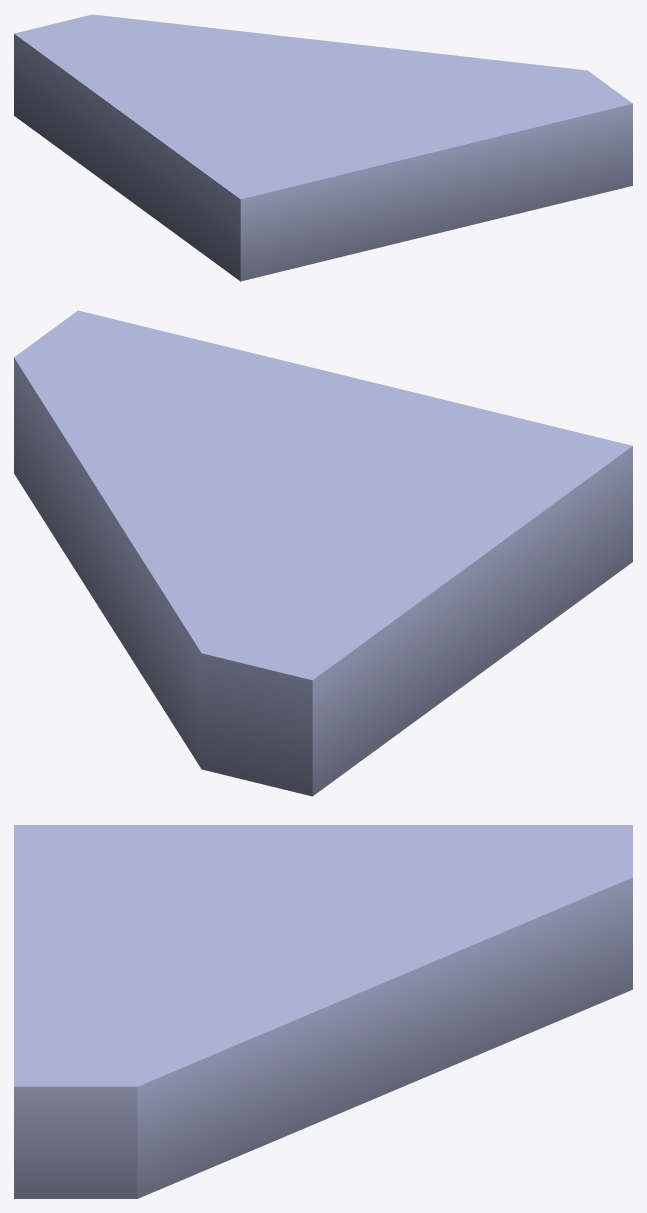
File: floor-thick-corner-diagonal.fbx
3 renders of one model, top to bottom at view 1: azimuth 30°, elevation 25°; view 2: azimuth 150°, elevation 25°; view 3: azimuth 270°, elevation 25°, orthographic. The views are drawn at different scales.
Visible parts, largest first — view 1: floor-thick-corner-diagonal; view 2: floor-thick-corner-diagonal; view 3: floor-thick-corner-diagonal.
Boxes of the visible parts, x1=… form: floor-thick-corner-diagonal: x1=14, y1=14, x2=632, y2=281; floor-thick-corner-diagonal: x1=14, y1=310, x2=632, y2=796; floor-thick-corner-diagonal: x1=14, y1=825, x2=632, y2=1198.
Bounding box in the file's own units: 100 × 20 × 100.
